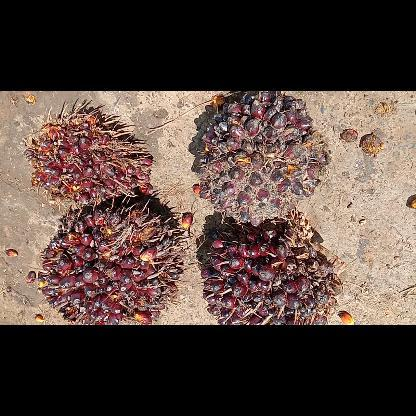Kurang masak: (42, 194, 186, 324), (200, 90, 324, 226), (202, 210, 342, 324), (24, 104, 152, 210)
